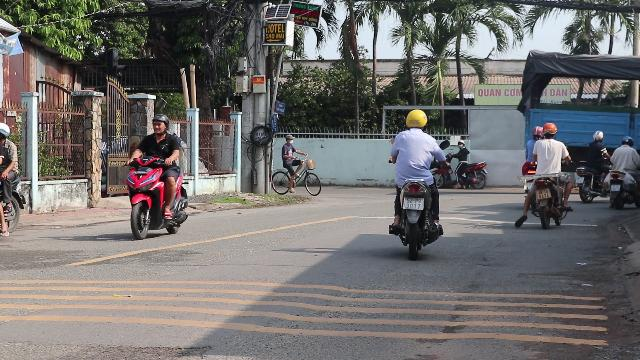helmet: (405, 108, 427, 130), (150, 113, 168, 133), (541, 122, 557, 138)
licenseplate: (402, 198, 423, 208), (536, 190, 550, 198)
motorcyclist: (384, 108, 448, 255), (122, 112, 190, 240), (516, 121, 572, 227)
